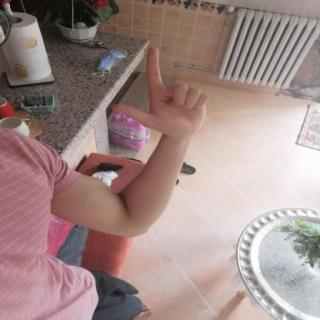LAAM: (104, 37, 212, 141)
